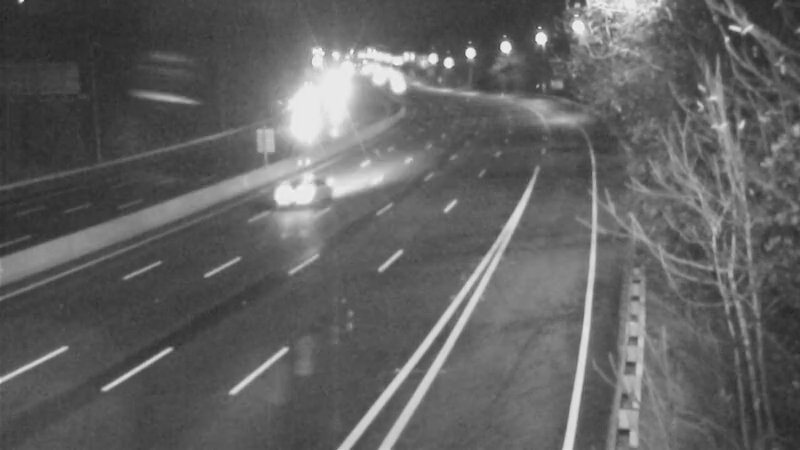vehicle: (254, 153, 334, 233)
